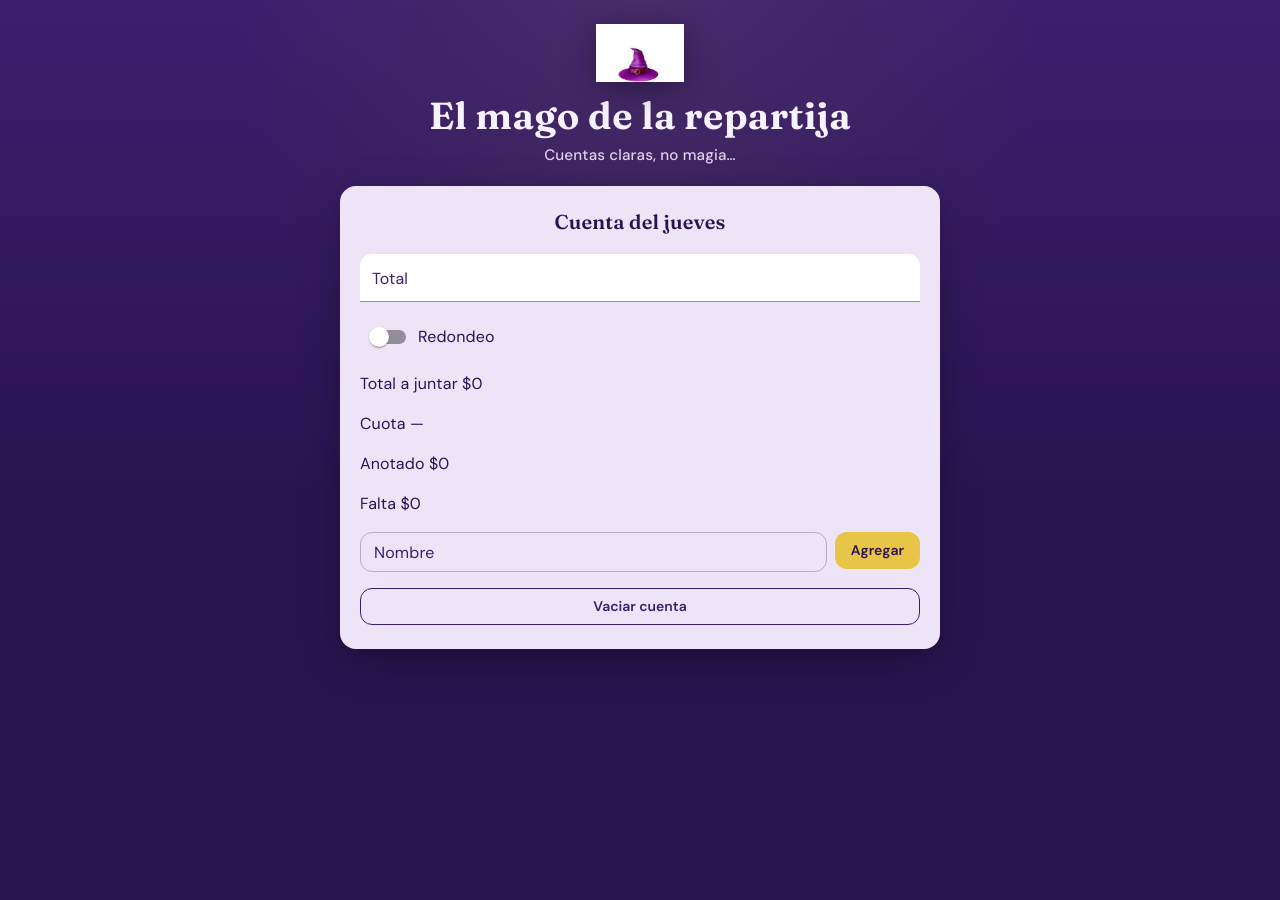
Scenario: Cuenta del jueves › debería topear el monto cuando se escribe más que la cuota
The image size is (1280, 900).
Step 1. Type "100" into the field labelled "Total" → (640, 278), box top-left (360, 254), bottom-right (920, 302)
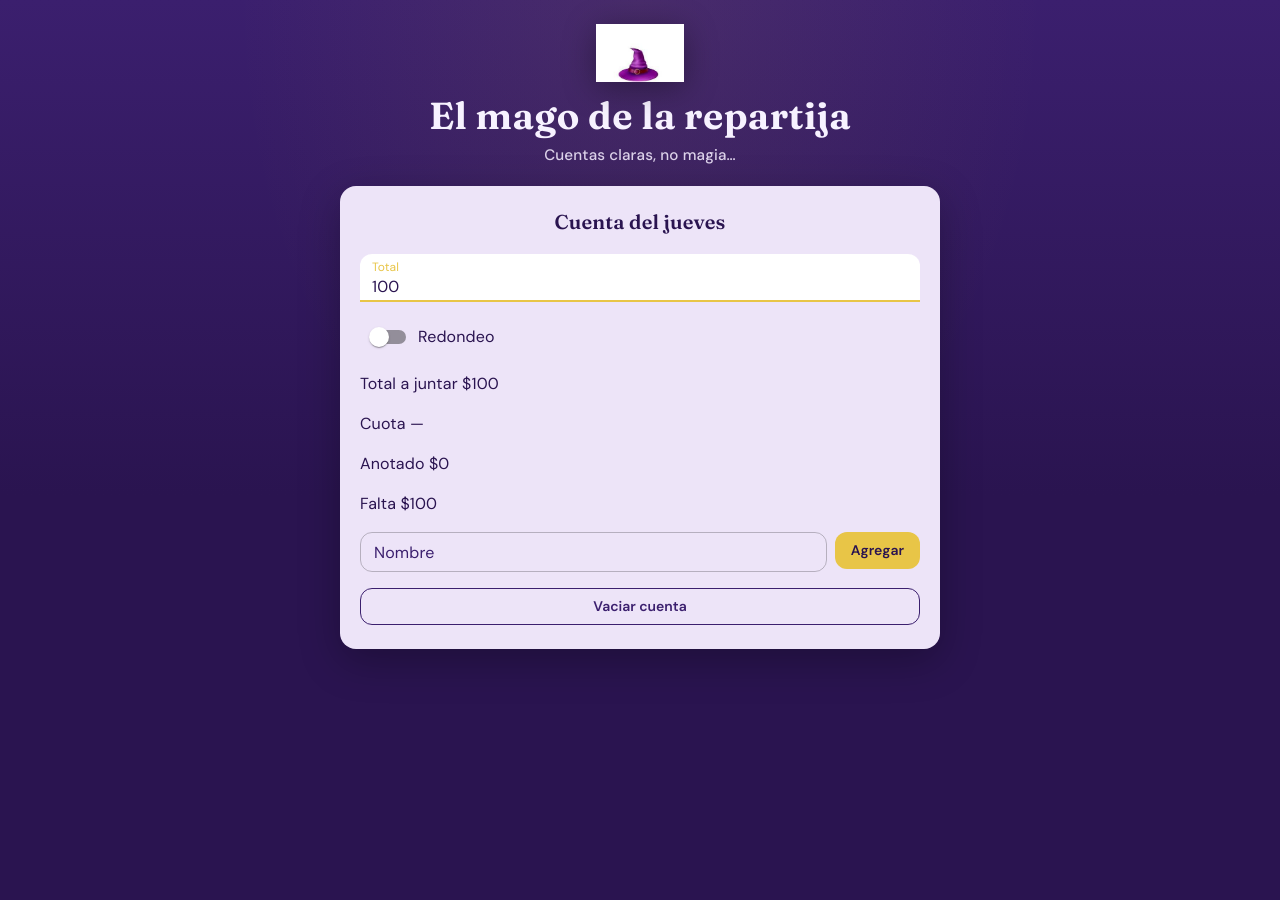
Step 2. Type "Ferra" into the field labelled "Nombre" → (593, 552), box top-left (360, 532), bottom-right (827, 572)
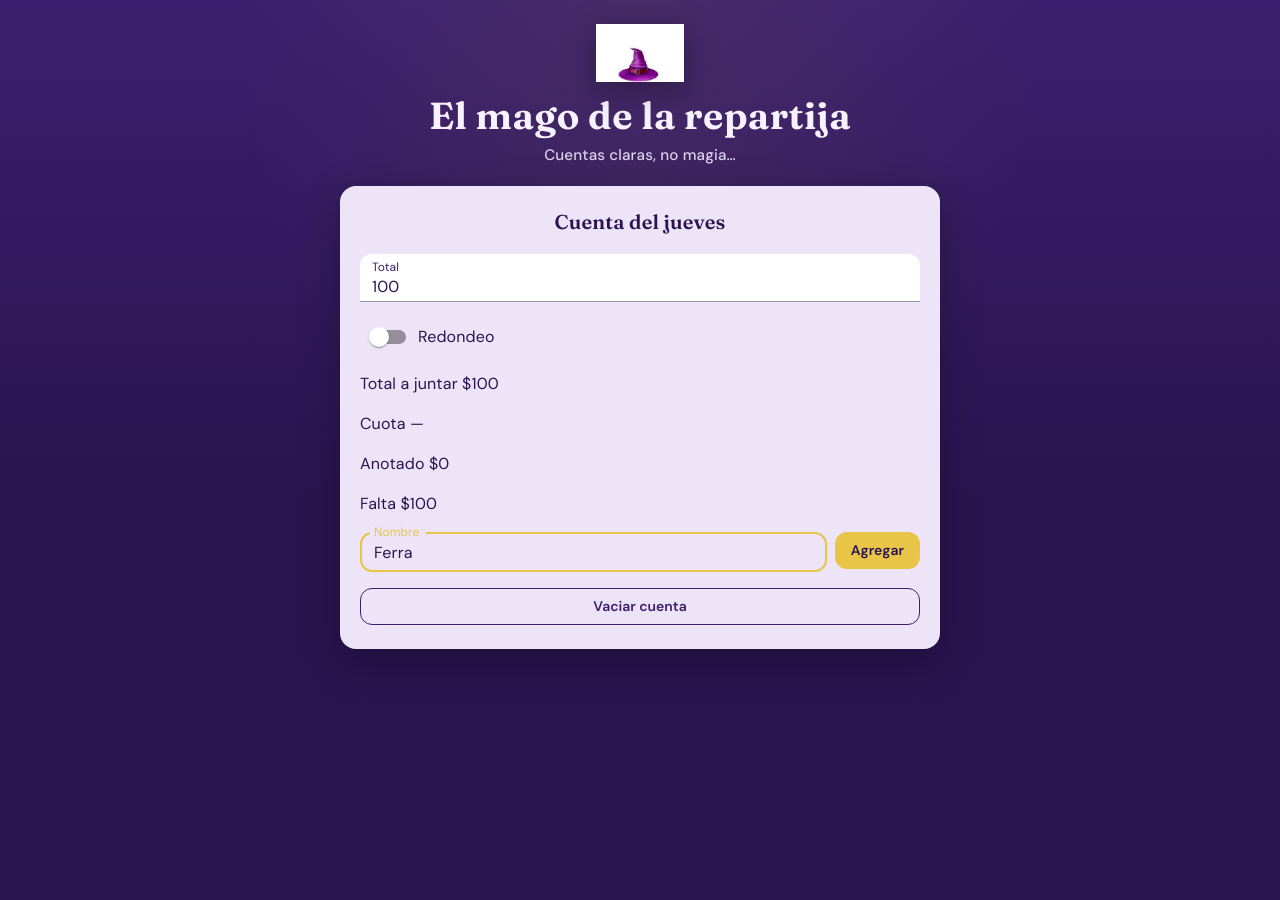
Step 3. Click the button "Agregar" → (877, 551), box top-left (835, 532), bottom-right (920, 569)
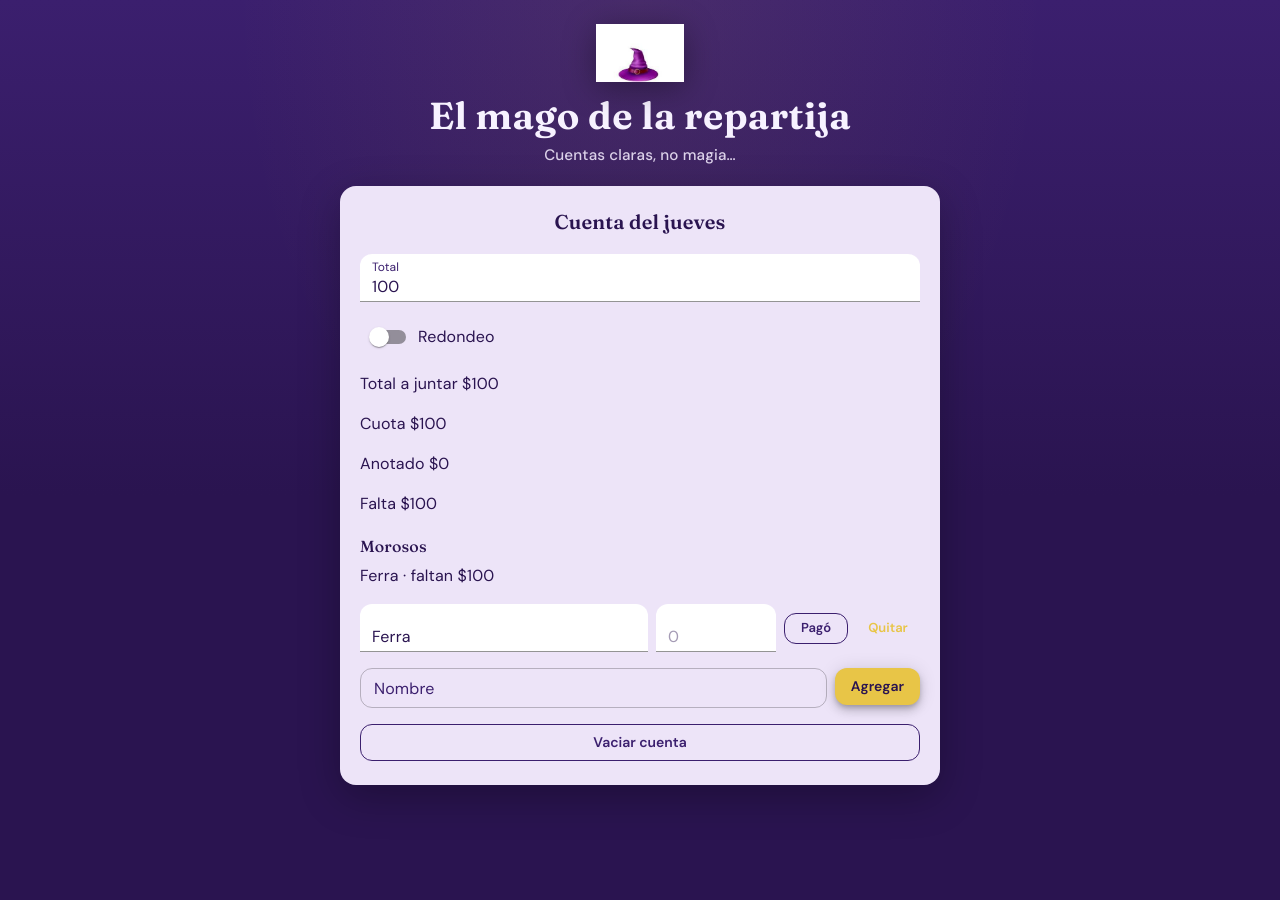
Step 4. Type "150" into the field named "Monto de Ferra" → (716, 628), box top-left (656, 604), bottom-right (776, 652)
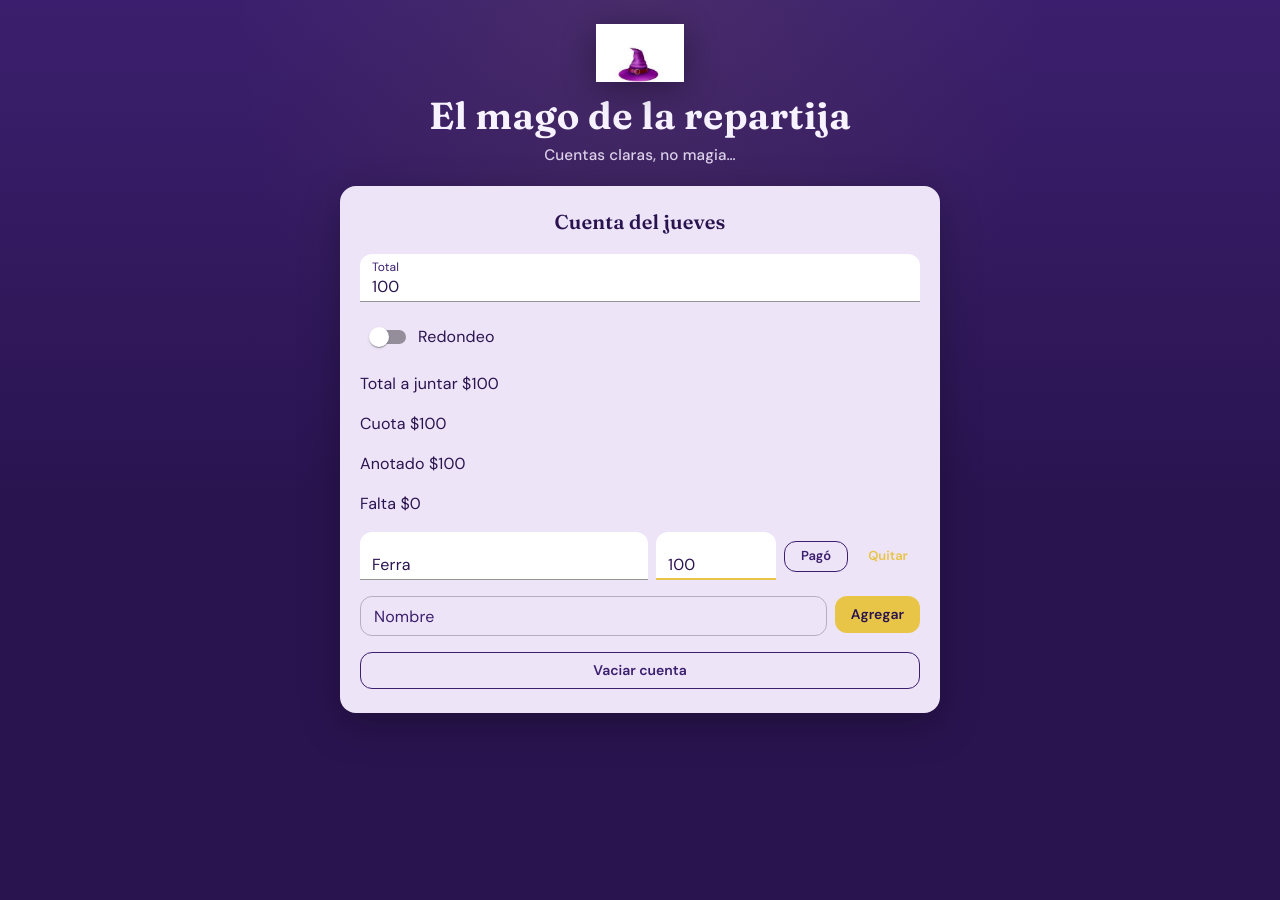
Now the field named "Monto de Ferra" holds "100", box top-left (656, 532), bottom-right (776, 580)
